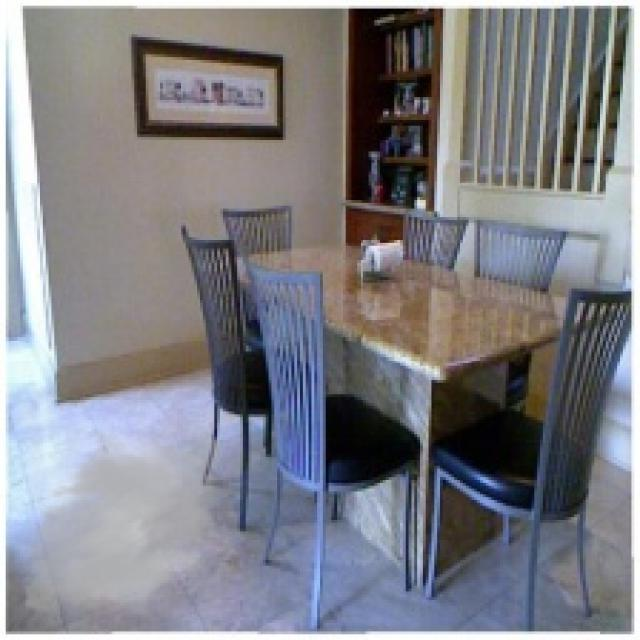smoke: (15, 414, 232, 629)
